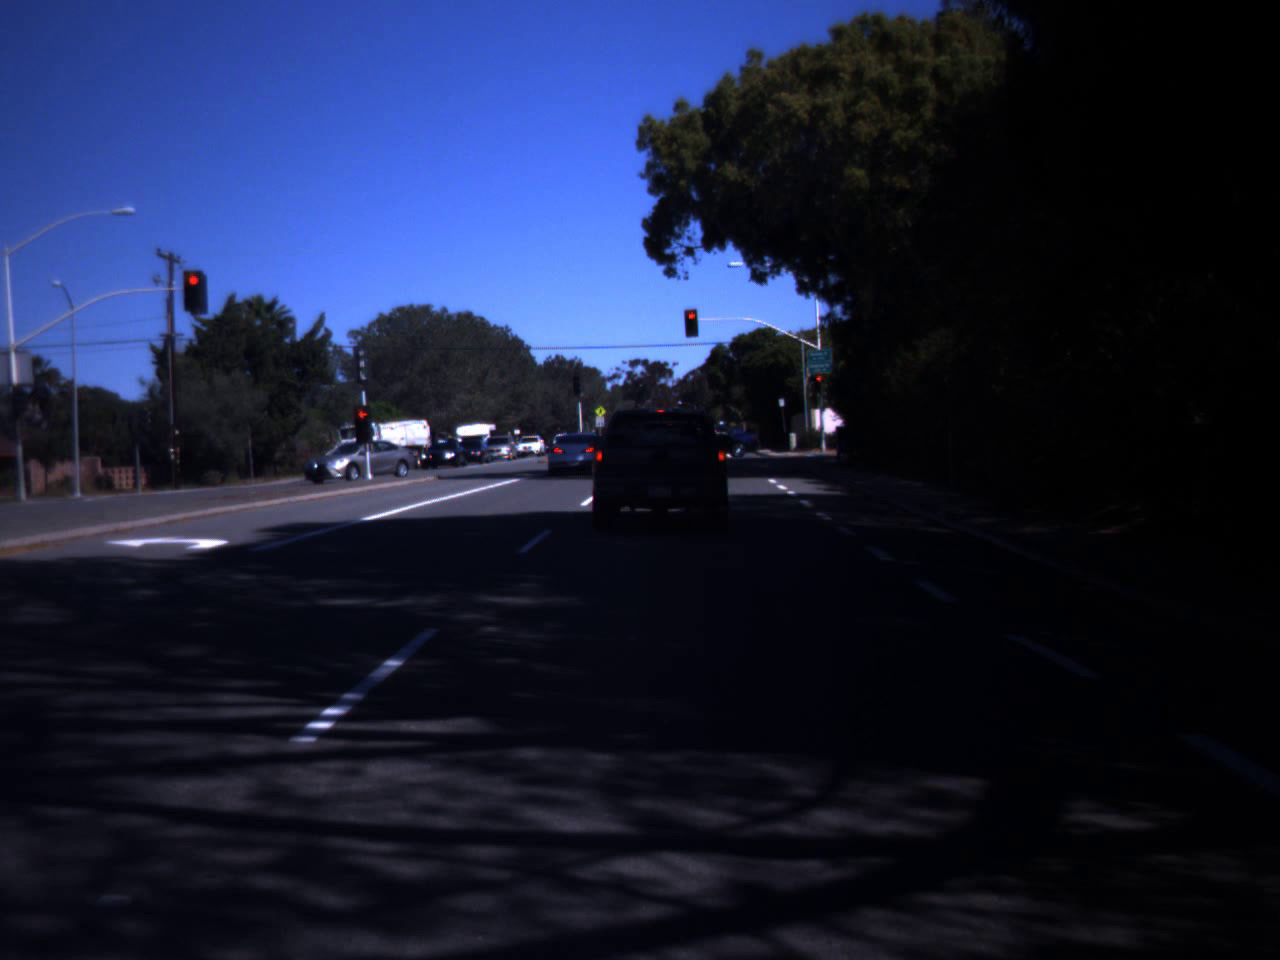stop: (183, 272, 204, 308), (354, 409, 372, 431), (684, 312, 699, 330)
